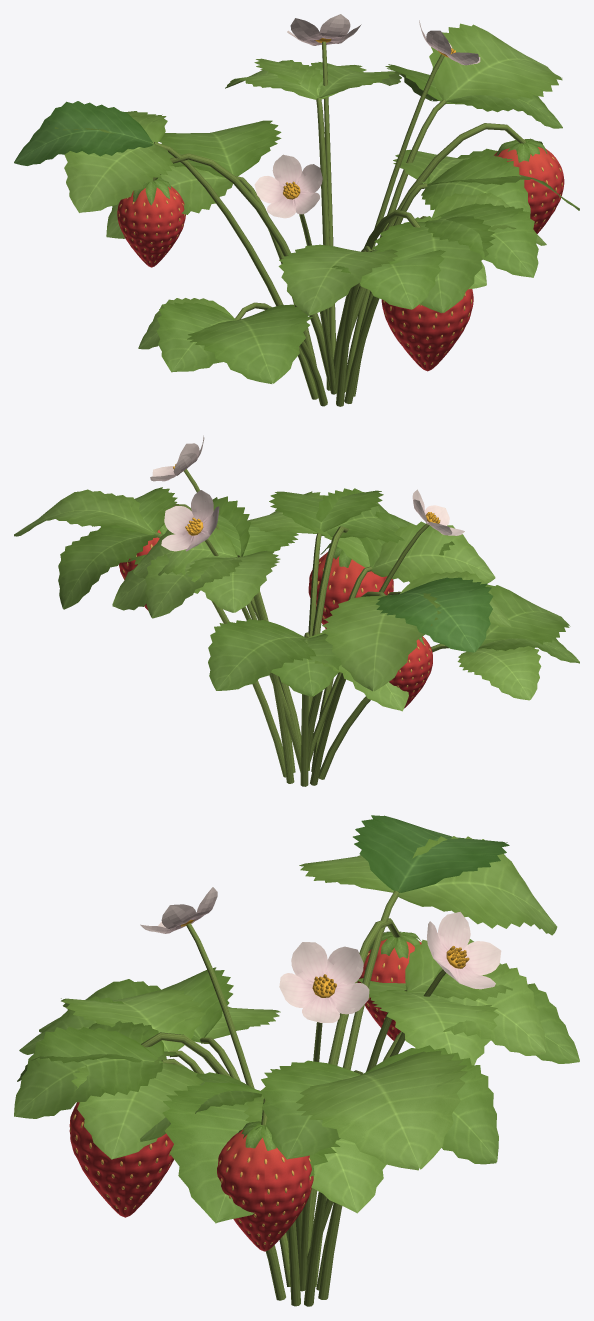
The model's file is SM_ValleyStrawberry.fbx.
3 views of the same model, one above another, from view 1: azimuth 30°, elevation 25°; view 2: azimuth 150°, elevation 25°; view 3: azimuth 270°, elevation 25° (orthographic). The views are drawn at different scales.
Parts seen in each view (by area): view 1: SM_ValleyStrawberry; view 2: SM_ValleyStrawberry; view 3: SM_ValleyStrawberry.
Boxes of the visible parts, left/top/right/bottom form: SM_ValleyStrawberry: left=14, top=14, right=579, bottom=406; SM_ValleyStrawberry: left=14, top=435, right=579, bottom=786; SM_ValleyStrawberry: left=14, top=815, right=579, bottom=1306.
Bounding box in the file's own units: 113 × 88.45 × 72.09.
1 material, 1 textured.
